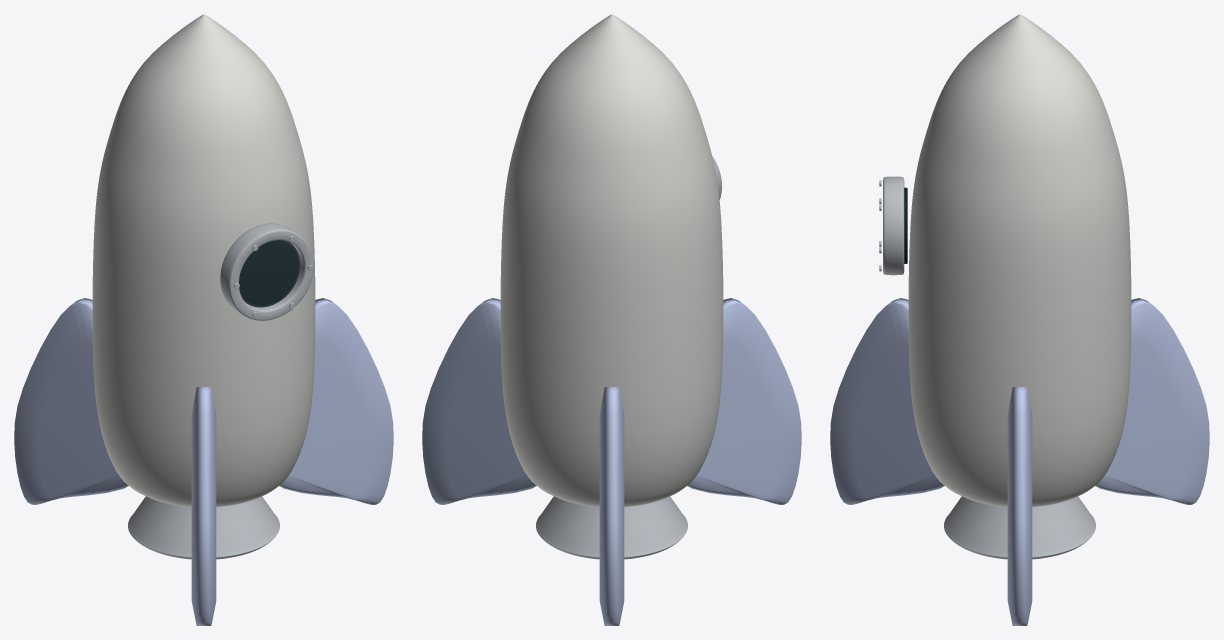
The model's file is little-rocket.glb.
3 views of the same model, side by side, from view 1: azimuth 30°, elevation 25°; view 2: azimuth 150°, elevation 25°; view 3: azimuth 270°, elevation 25° (orthographic).
Visible parts, largest first — view 1: sculpted-surface (×2), soft-sculpted-landing-fin (×3), machined-annular-ring, complete-lifting-rocket-016; view 2: sculpted-surface (×2), soft-sculpted-landing-fin (×3); view 3: sculpted-surface (×2), soft-sculpted-landing-fin (×3), machined-annular-ring.
Part boxes in pixels (x1,y1,x2,y2): sculpted-surface (×2): (92,14,315,559); soft-sculpted-landing-fin (×3): (14,298,393,625); machined-annular-ring: (220,223,313,320); complete-lifting-rocket-016: (239,240,300,307); sculpted-surface (×2): (500,14,723,559); soft-sculpted-landing-fin (×3): (422,298,801,625); sculpted-surface (×2): (908,14,1131,559); soft-sculpted-landing-fin (×3): (830,298,1209,625); machined-annular-ring: (883,176,904,275).
Size of the model in its own units: 1.12 by 1.99 by 1.29.
